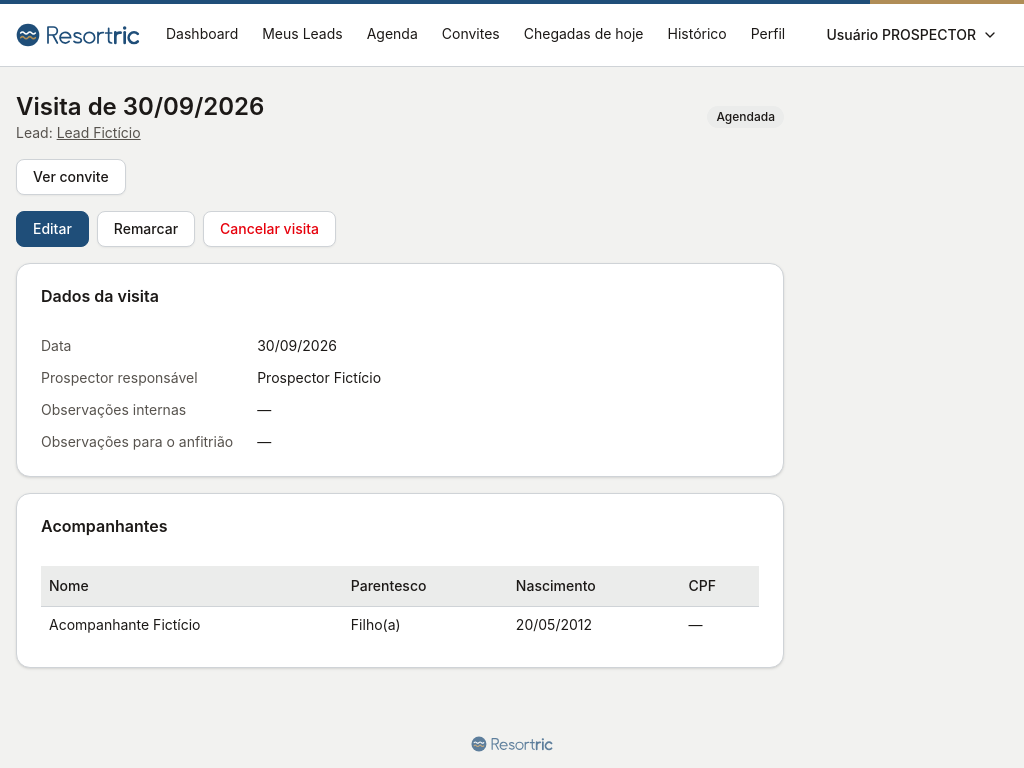
Test: W6 — remarcar › 0: erro do backend aparece em português e a tela não muda
The width and height of the screenshot is (1024, 768).
Click the button "Remarcar" at {"x": 146, "y": 229}, box [97,211,195,247]
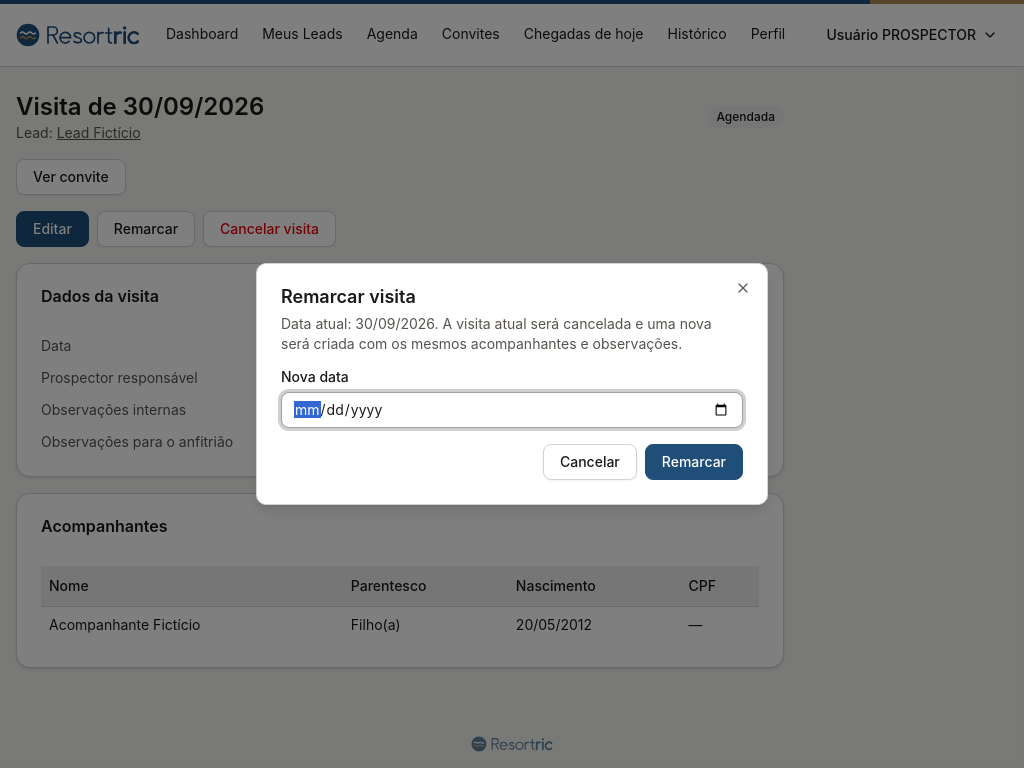
Type "2026-10-15" into the date field labelled "Nova data" at {"x": 512, "y": 410}, box [281,392,743,428]
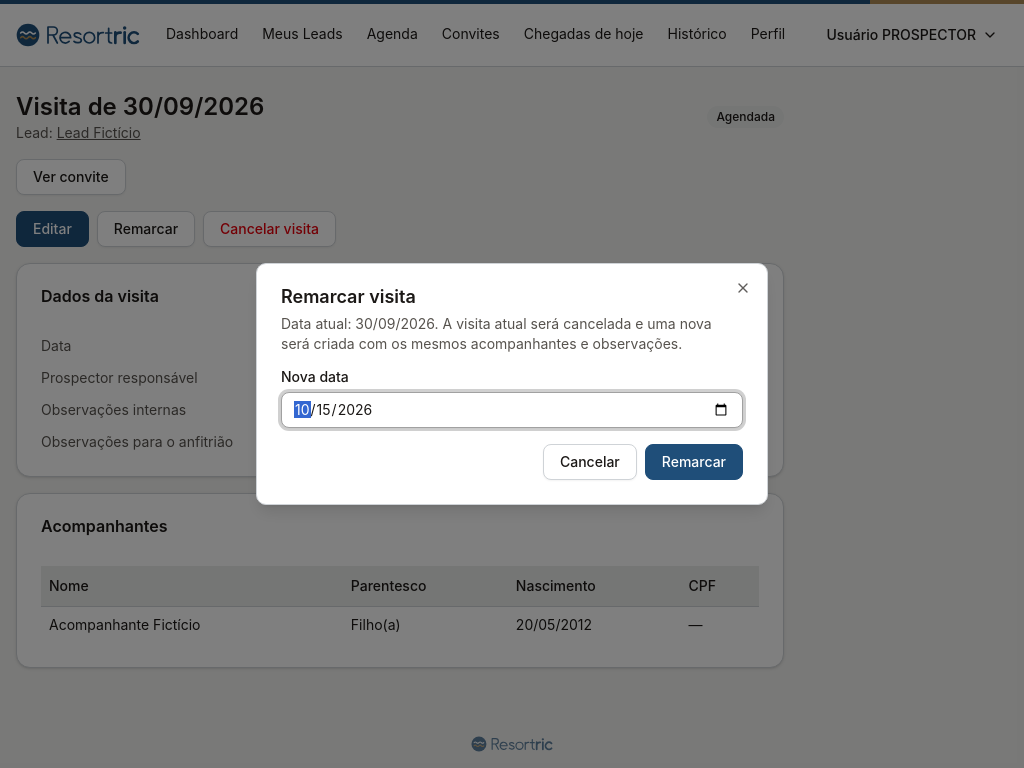
Click the button "Remarcar" at {"x": 694, "y": 462}, box [645,444,743,480]
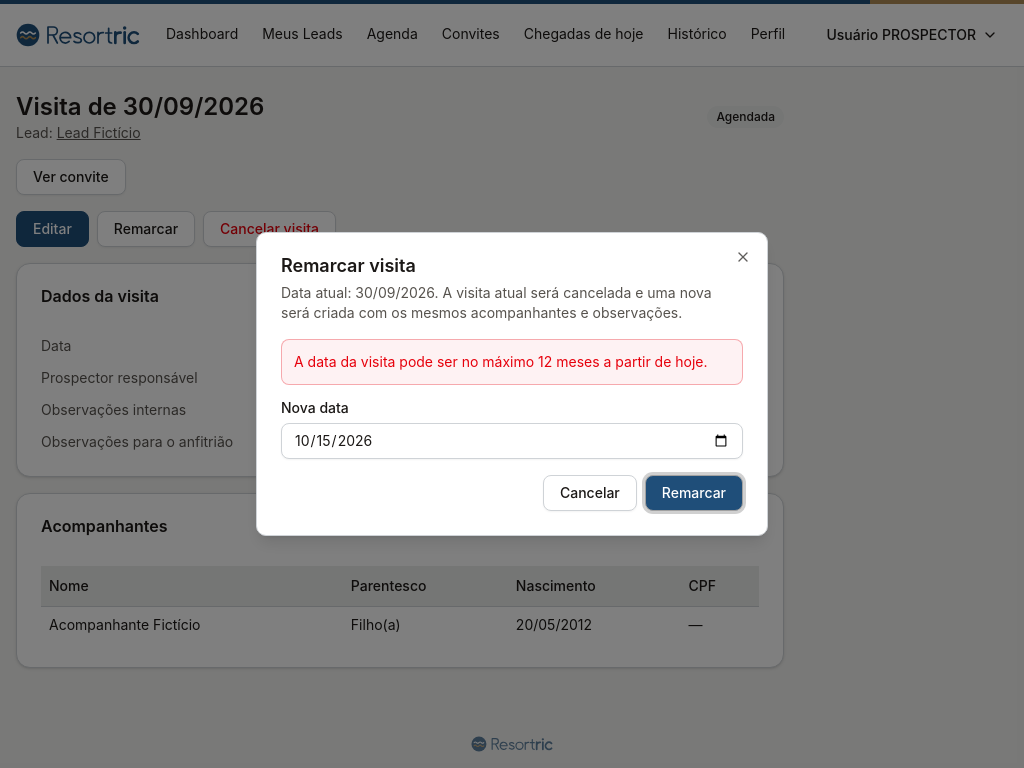
Expected: the message reads "A data da visita pode ser no máximo 12 meses a partir de hoje.", [294,353,708,370]
